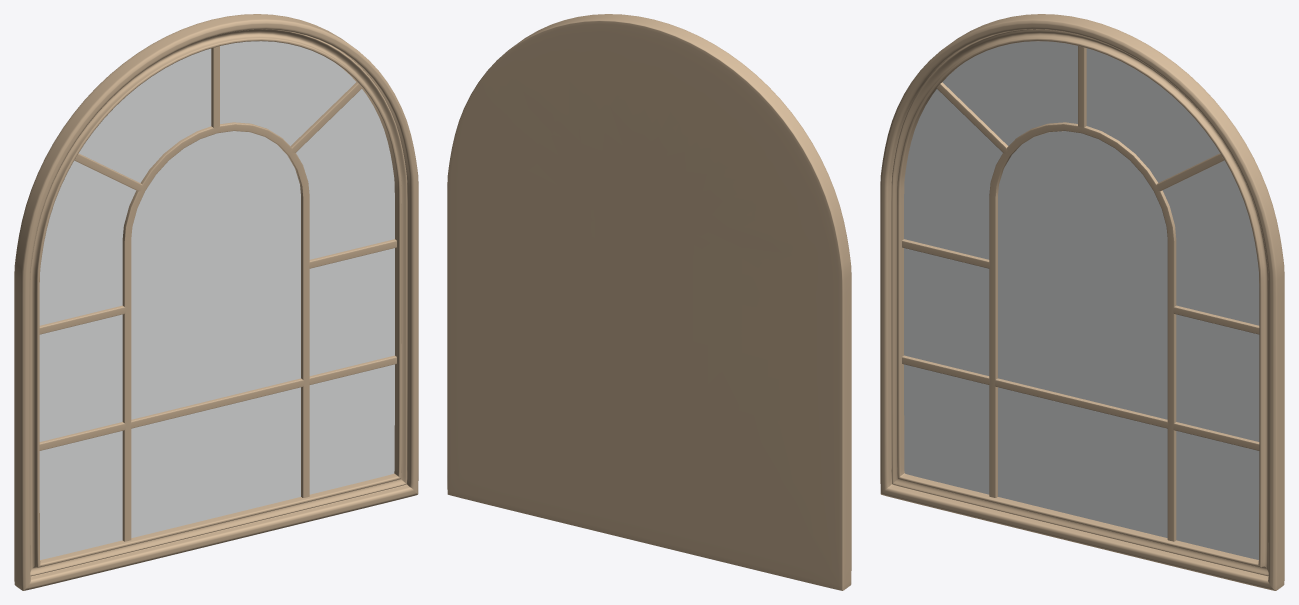
Rendered from MEGA_PACK_Mirror__mirror-70923_frame.glb.
3 views of the same model, side by side, from view 1: azimuth 30°, elevation 25°; view 2: azimuth 150°, elevation 25°; view 3: azimuth 330°, elevation 25° (orthographic).
Visible parts, largest first — view 1: mirror-70923_frame; view 2: mirror-70923_frame; view 3: mirror-70923_frame.
Boxes of the visible parts, x1,y1,x2,y2 form: mirror-70923_frame: (14,14,418,590); mirror-70923_frame: (447,14,851,590); mirror-70923_frame: (880,14,1284,590).
Bounding box in the file's own units: 0.7961 × 0.9938 × 0.0353.
1 material, 1 textured.
